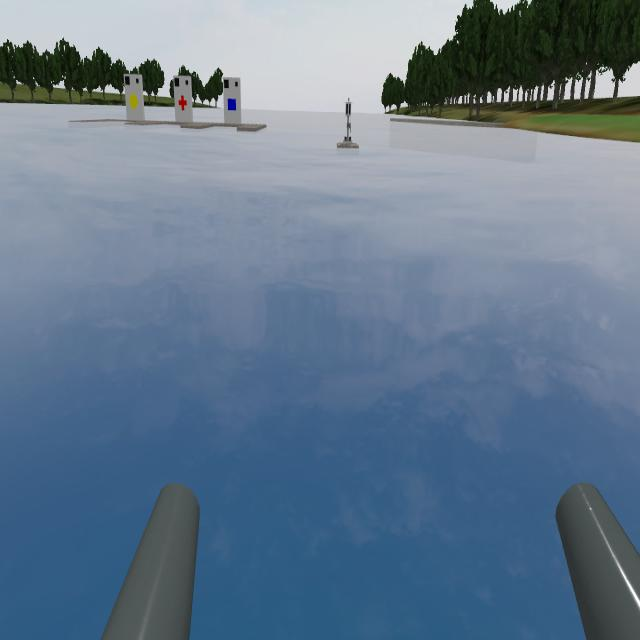black_pole: (343, 94, 356, 127)
